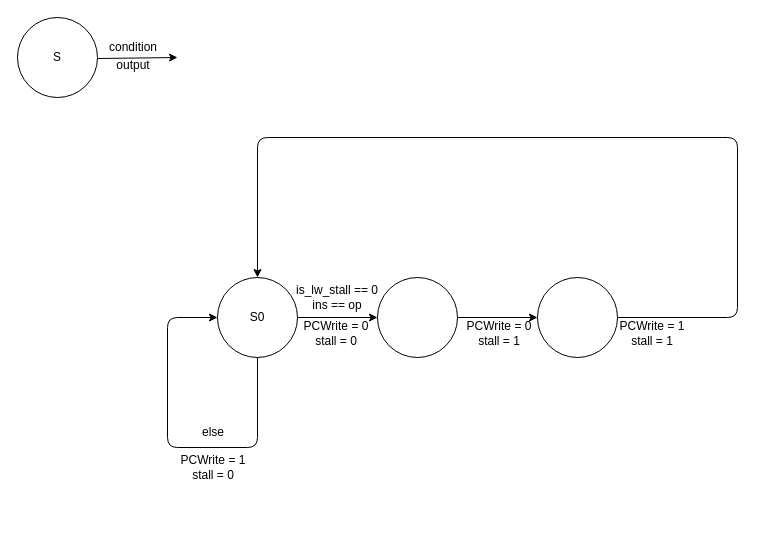
Some shapes in this 763 by 552 pixel diagram are drawn without their labels. Each missing label, with the centre of its shape:
S1: [417,317]
S2: [577,317]
